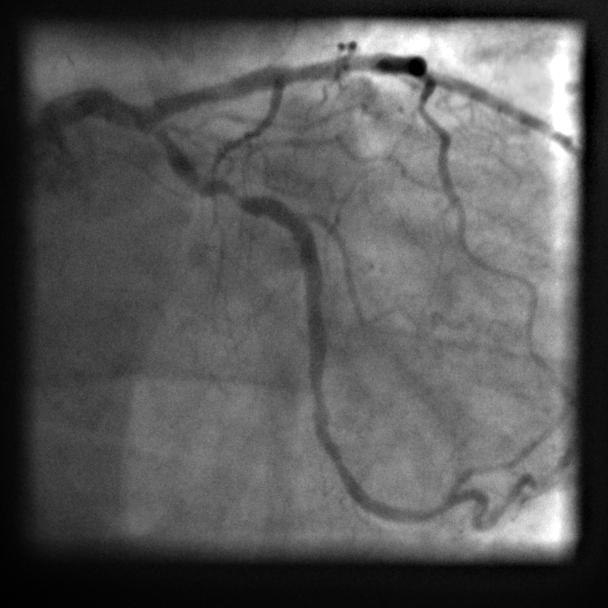Stenosis: (220, 179, 244, 204)
